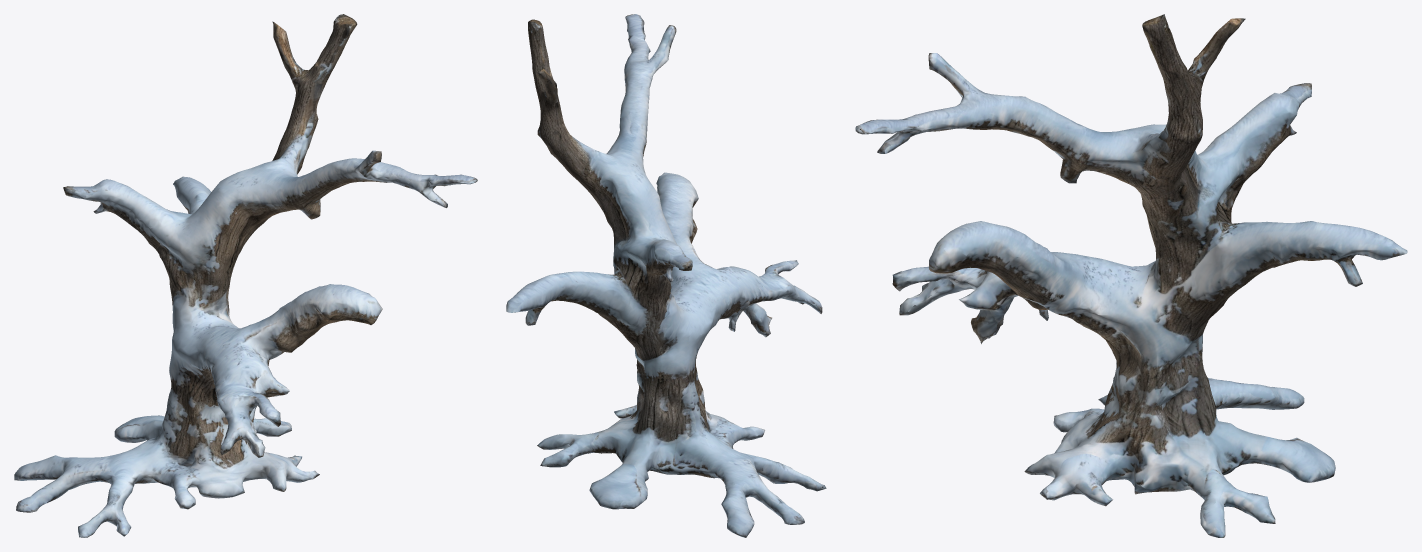
File: winter-tree2.glb
The picture shows the model from 3 angles, left to right: view 1: azimuth 30°, elevation 25°; view 2: azimuth 150°, elevation 25°; view 3: azimuth 270°, elevation 25°; orthographic projection. The views are drawn at different scales.
Size of the model in its own units: 0.9216 by 1.2 by 1.06.
1 material, 1 textured.
